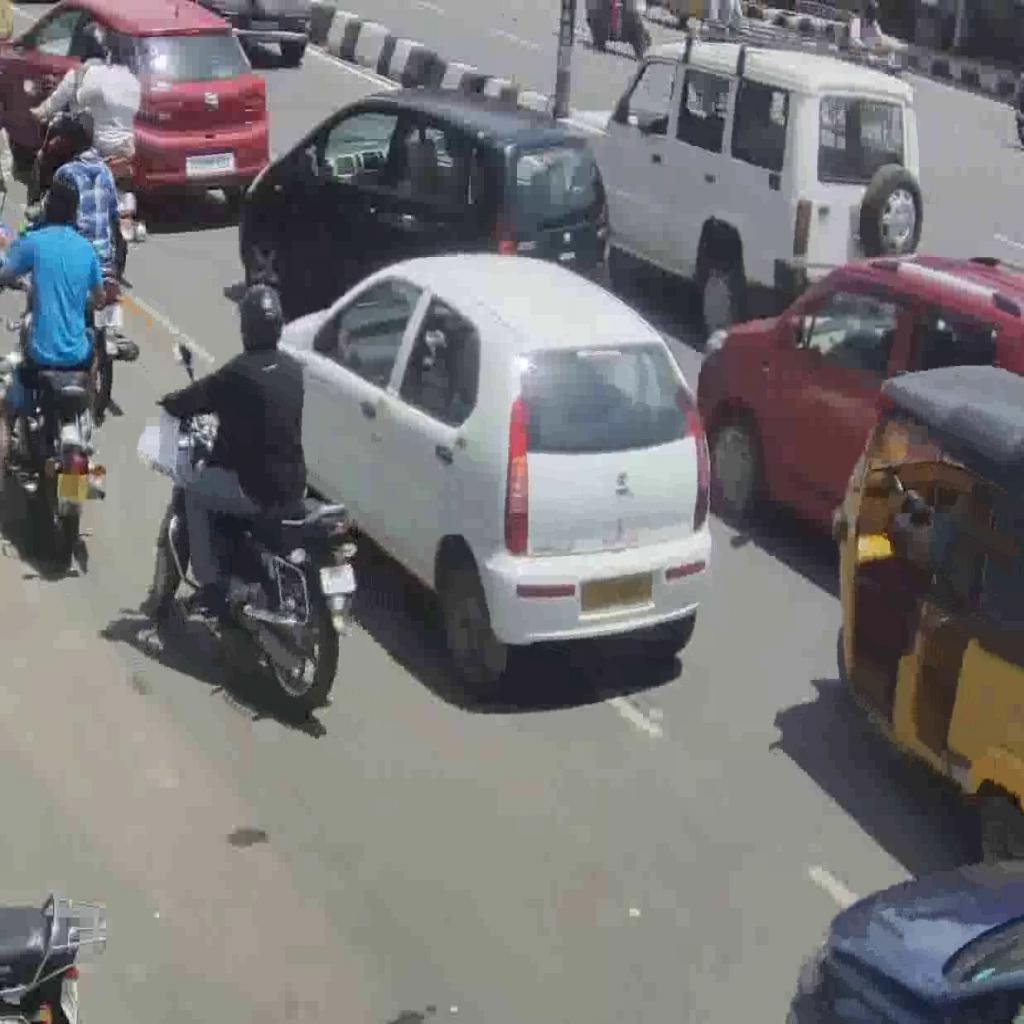helmet: (148, 386, 358, 714), (1, 266, 108, 568)
